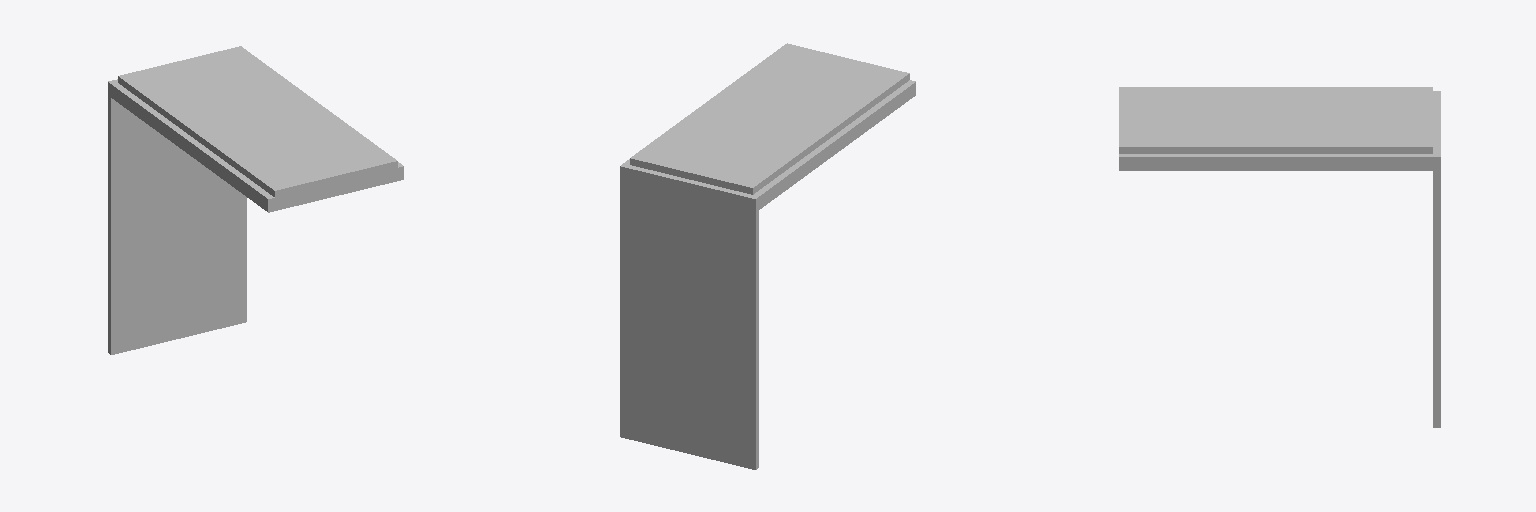
Rendered from hair3.obj.
The picture shows the model from 3 angles: view 1: azimuth 30°, elevation 25°; view 2: azimuth 150°, elevation 25°; view 3: azimuth 270°, elevation 25°; orthographic projection.
Parts seen in each view (by area): view 1: object 1; view 2: object 1; view 3: object 1.
Boxes of the visible parts, <box> form: object 1: <box>108,46,403,354</box>; object 1: <box>620,43,915,469</box>; object 1: <box>1119,87,1440,427</box>.
Size of the model in its own units: 2.1 by 4.1 by 4.3.